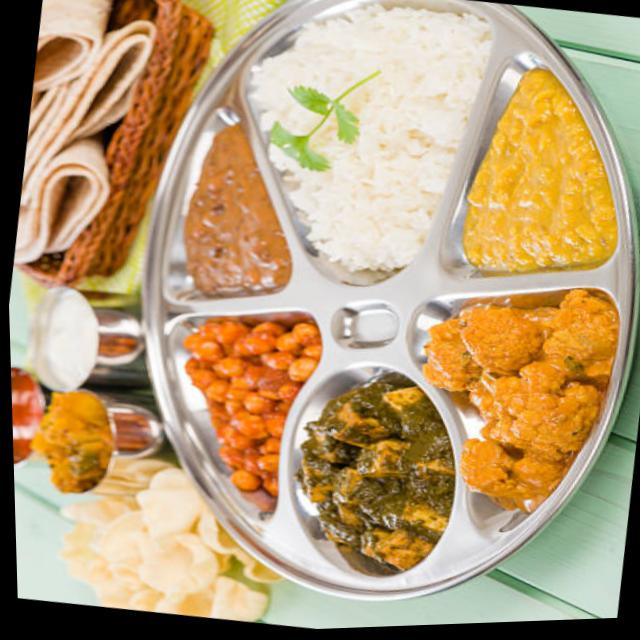CURRY: (288, 363, 449, 585)
RICE: (248, 0, 500, 284)
SAMBAR RICE: (452, 50, 622, 272)
SUNDAL: (156, 310, 320, 538)
VEGGIES: (409, 276, 628, 538), (172, 123, 294, 300)
